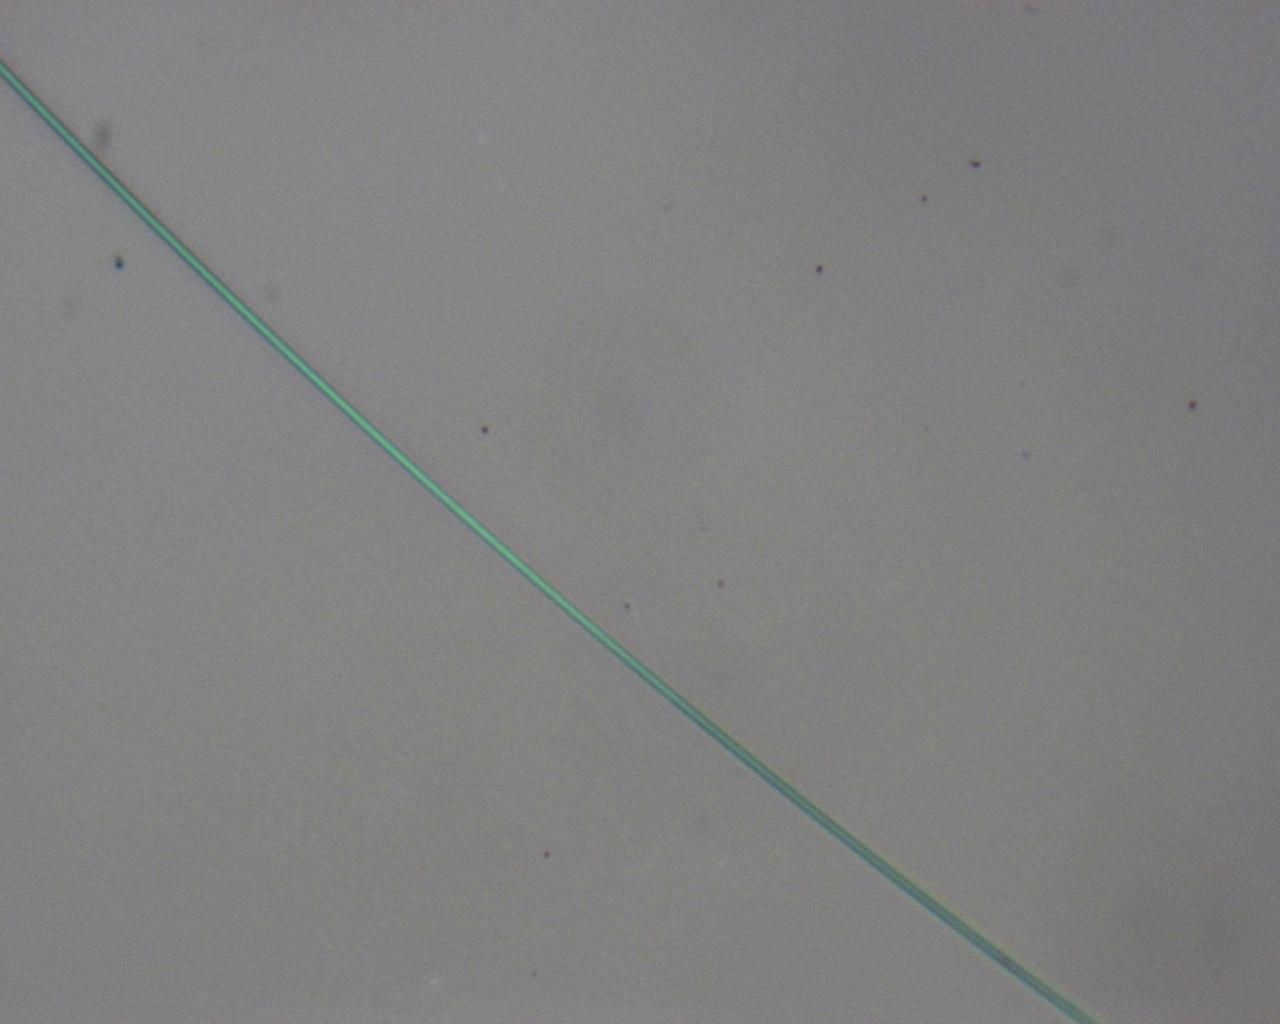fiber: (0, 59, 1098, 1023)
